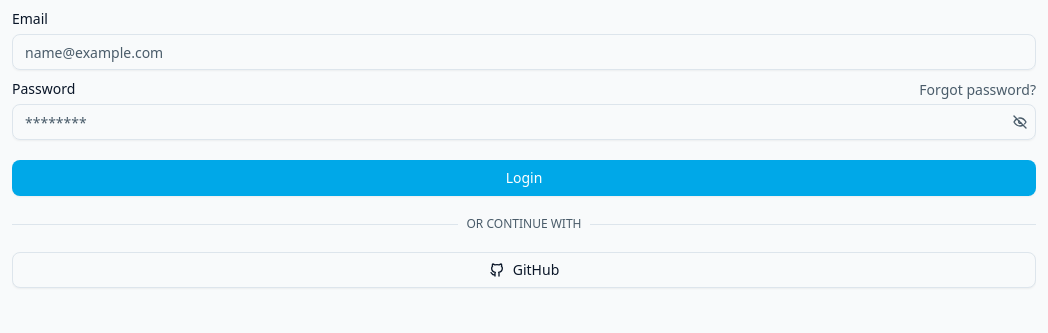
Test: UserAuthForm › shows error for short password
The width and height of the screenshot is (1048, 333).
Type "test@example.com" into the field labelled "Email" at x=524, y=52, box [12, 34, 1036, 70]
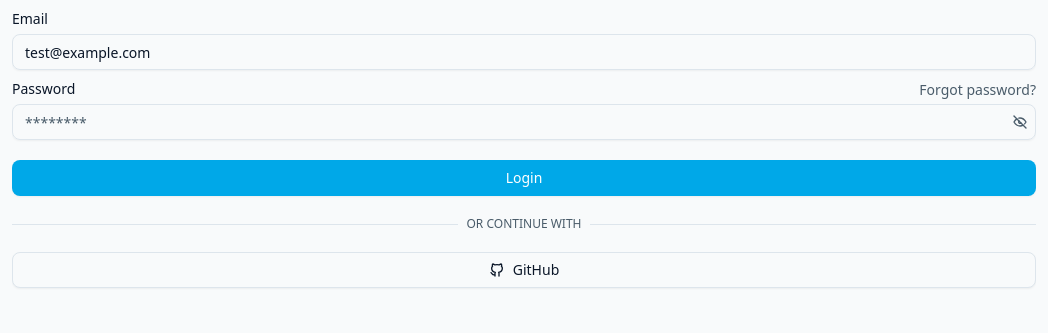
Type "123" into the password field labelled "Password" at x=524, y=122, box [12, 104, 1036, 140]
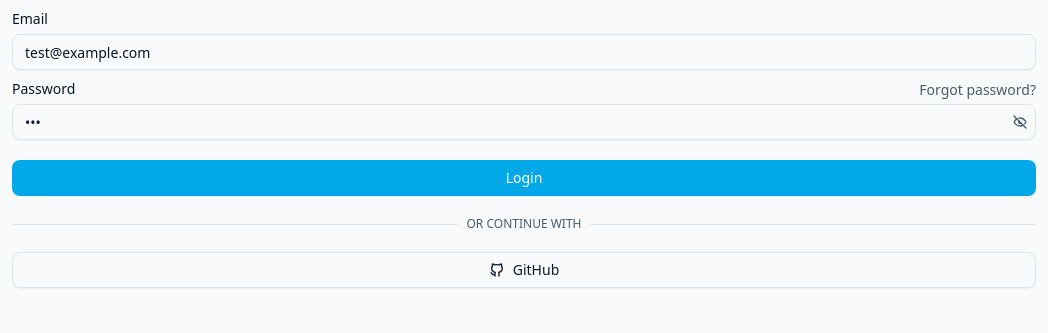
Click the button "Login" at x=524, y=178, box [12, 160, 1036, 196]
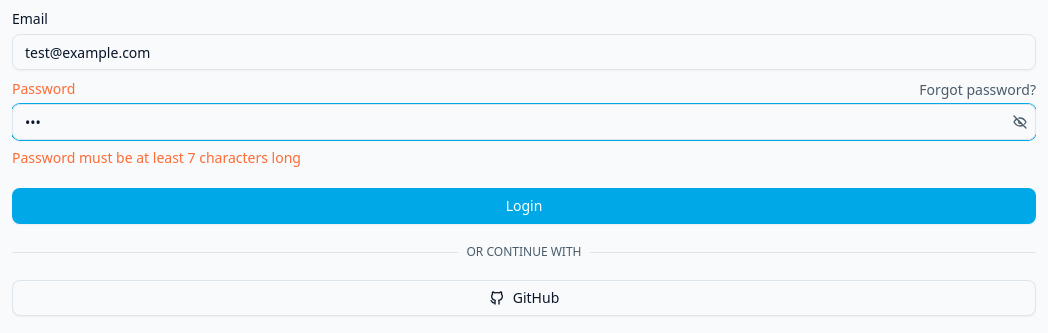
Result: the text "Password must be at least 7 characters long" is shown at [12, 148, 301, 167]
